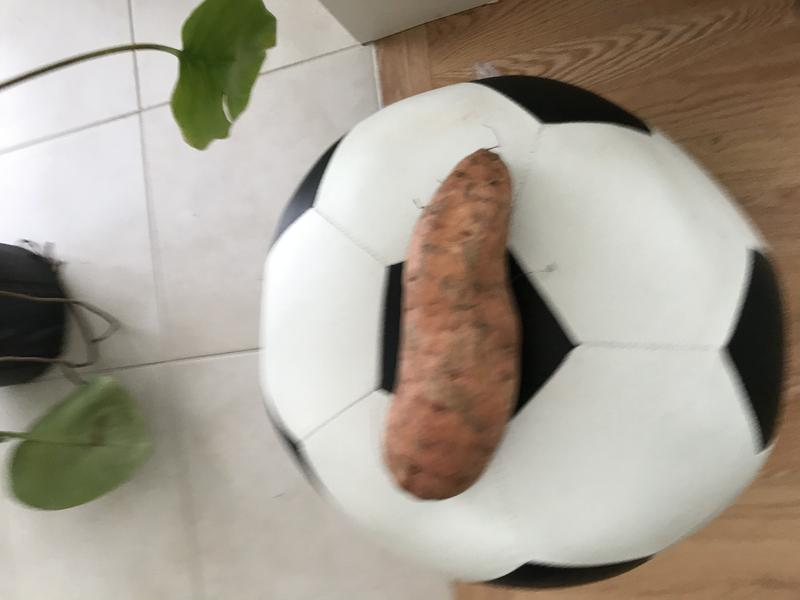sweet_potato: (374, 135, 532, 509)
